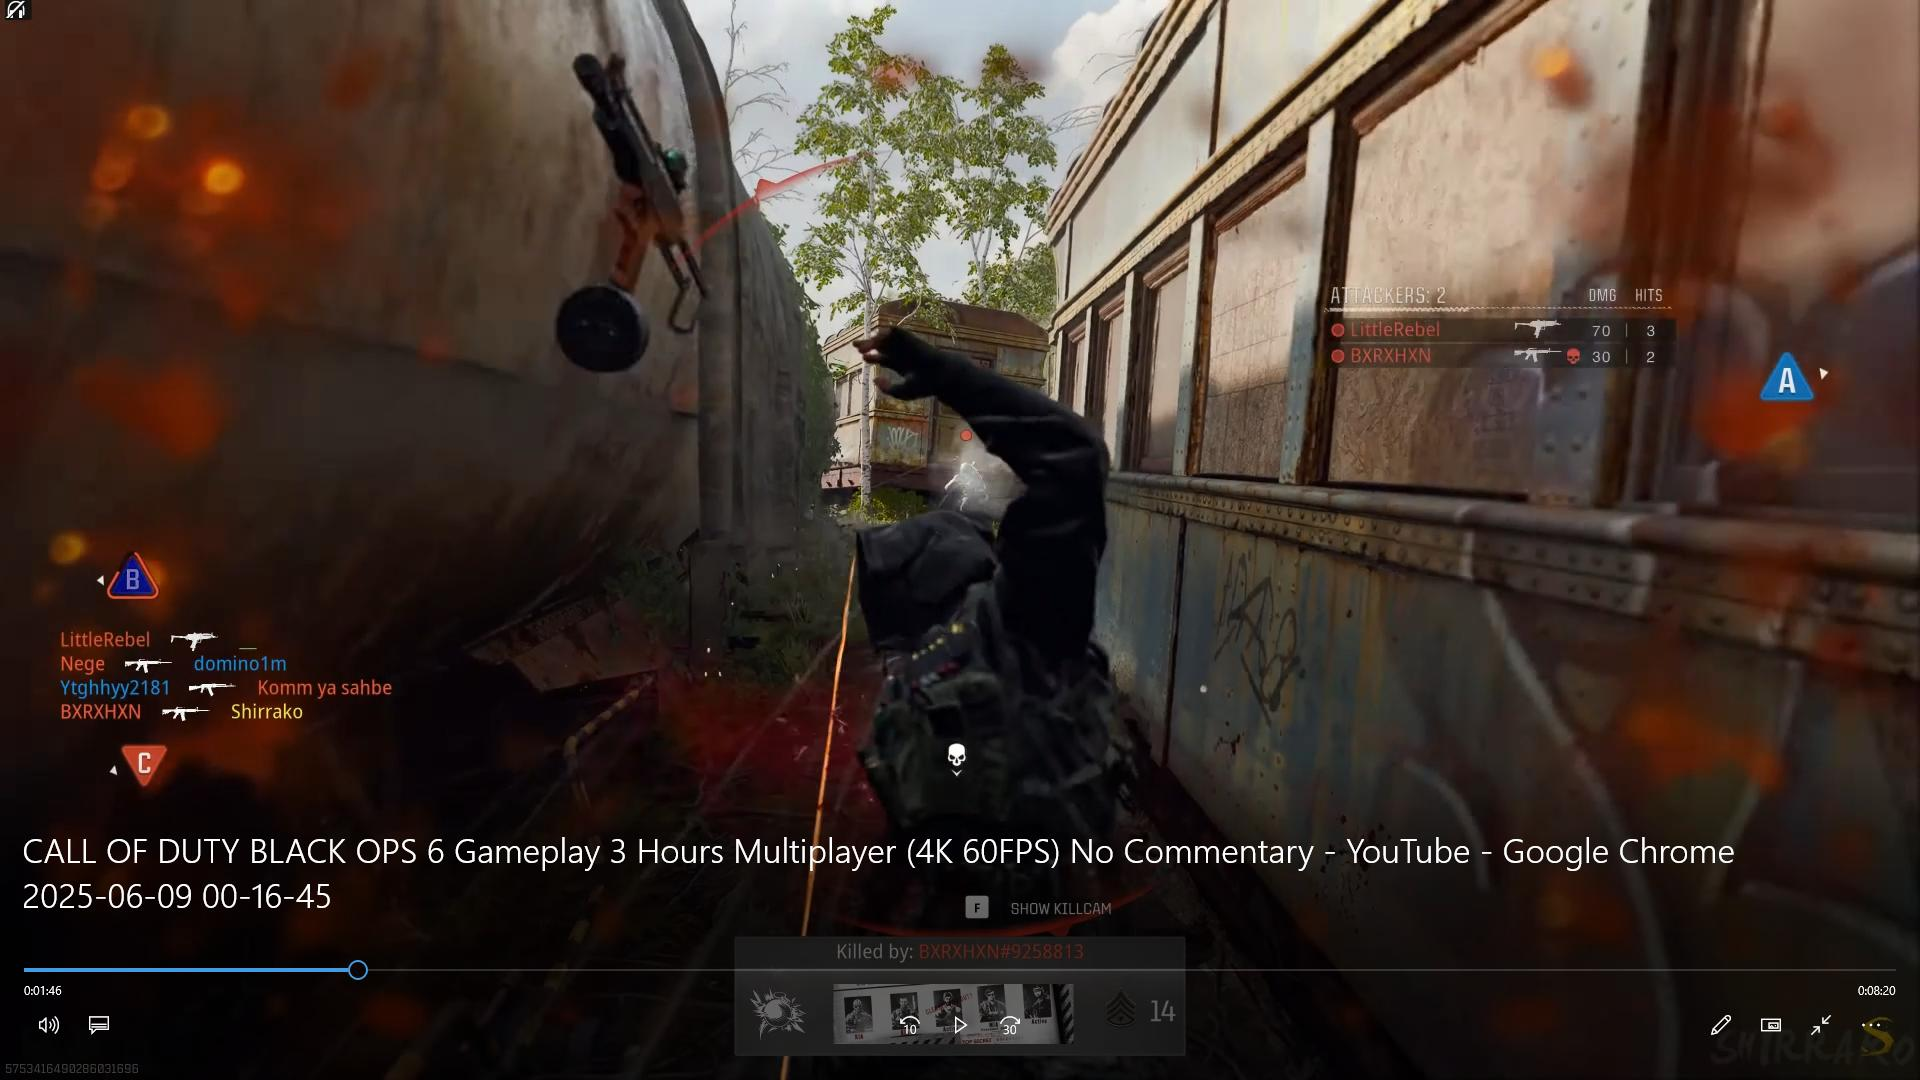Enemy: (940, 458, 994, 509)
